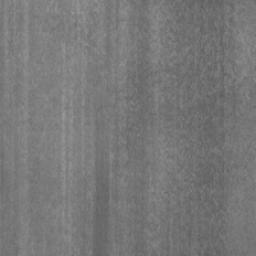Silk spot: (122, 0, 256, 256)
